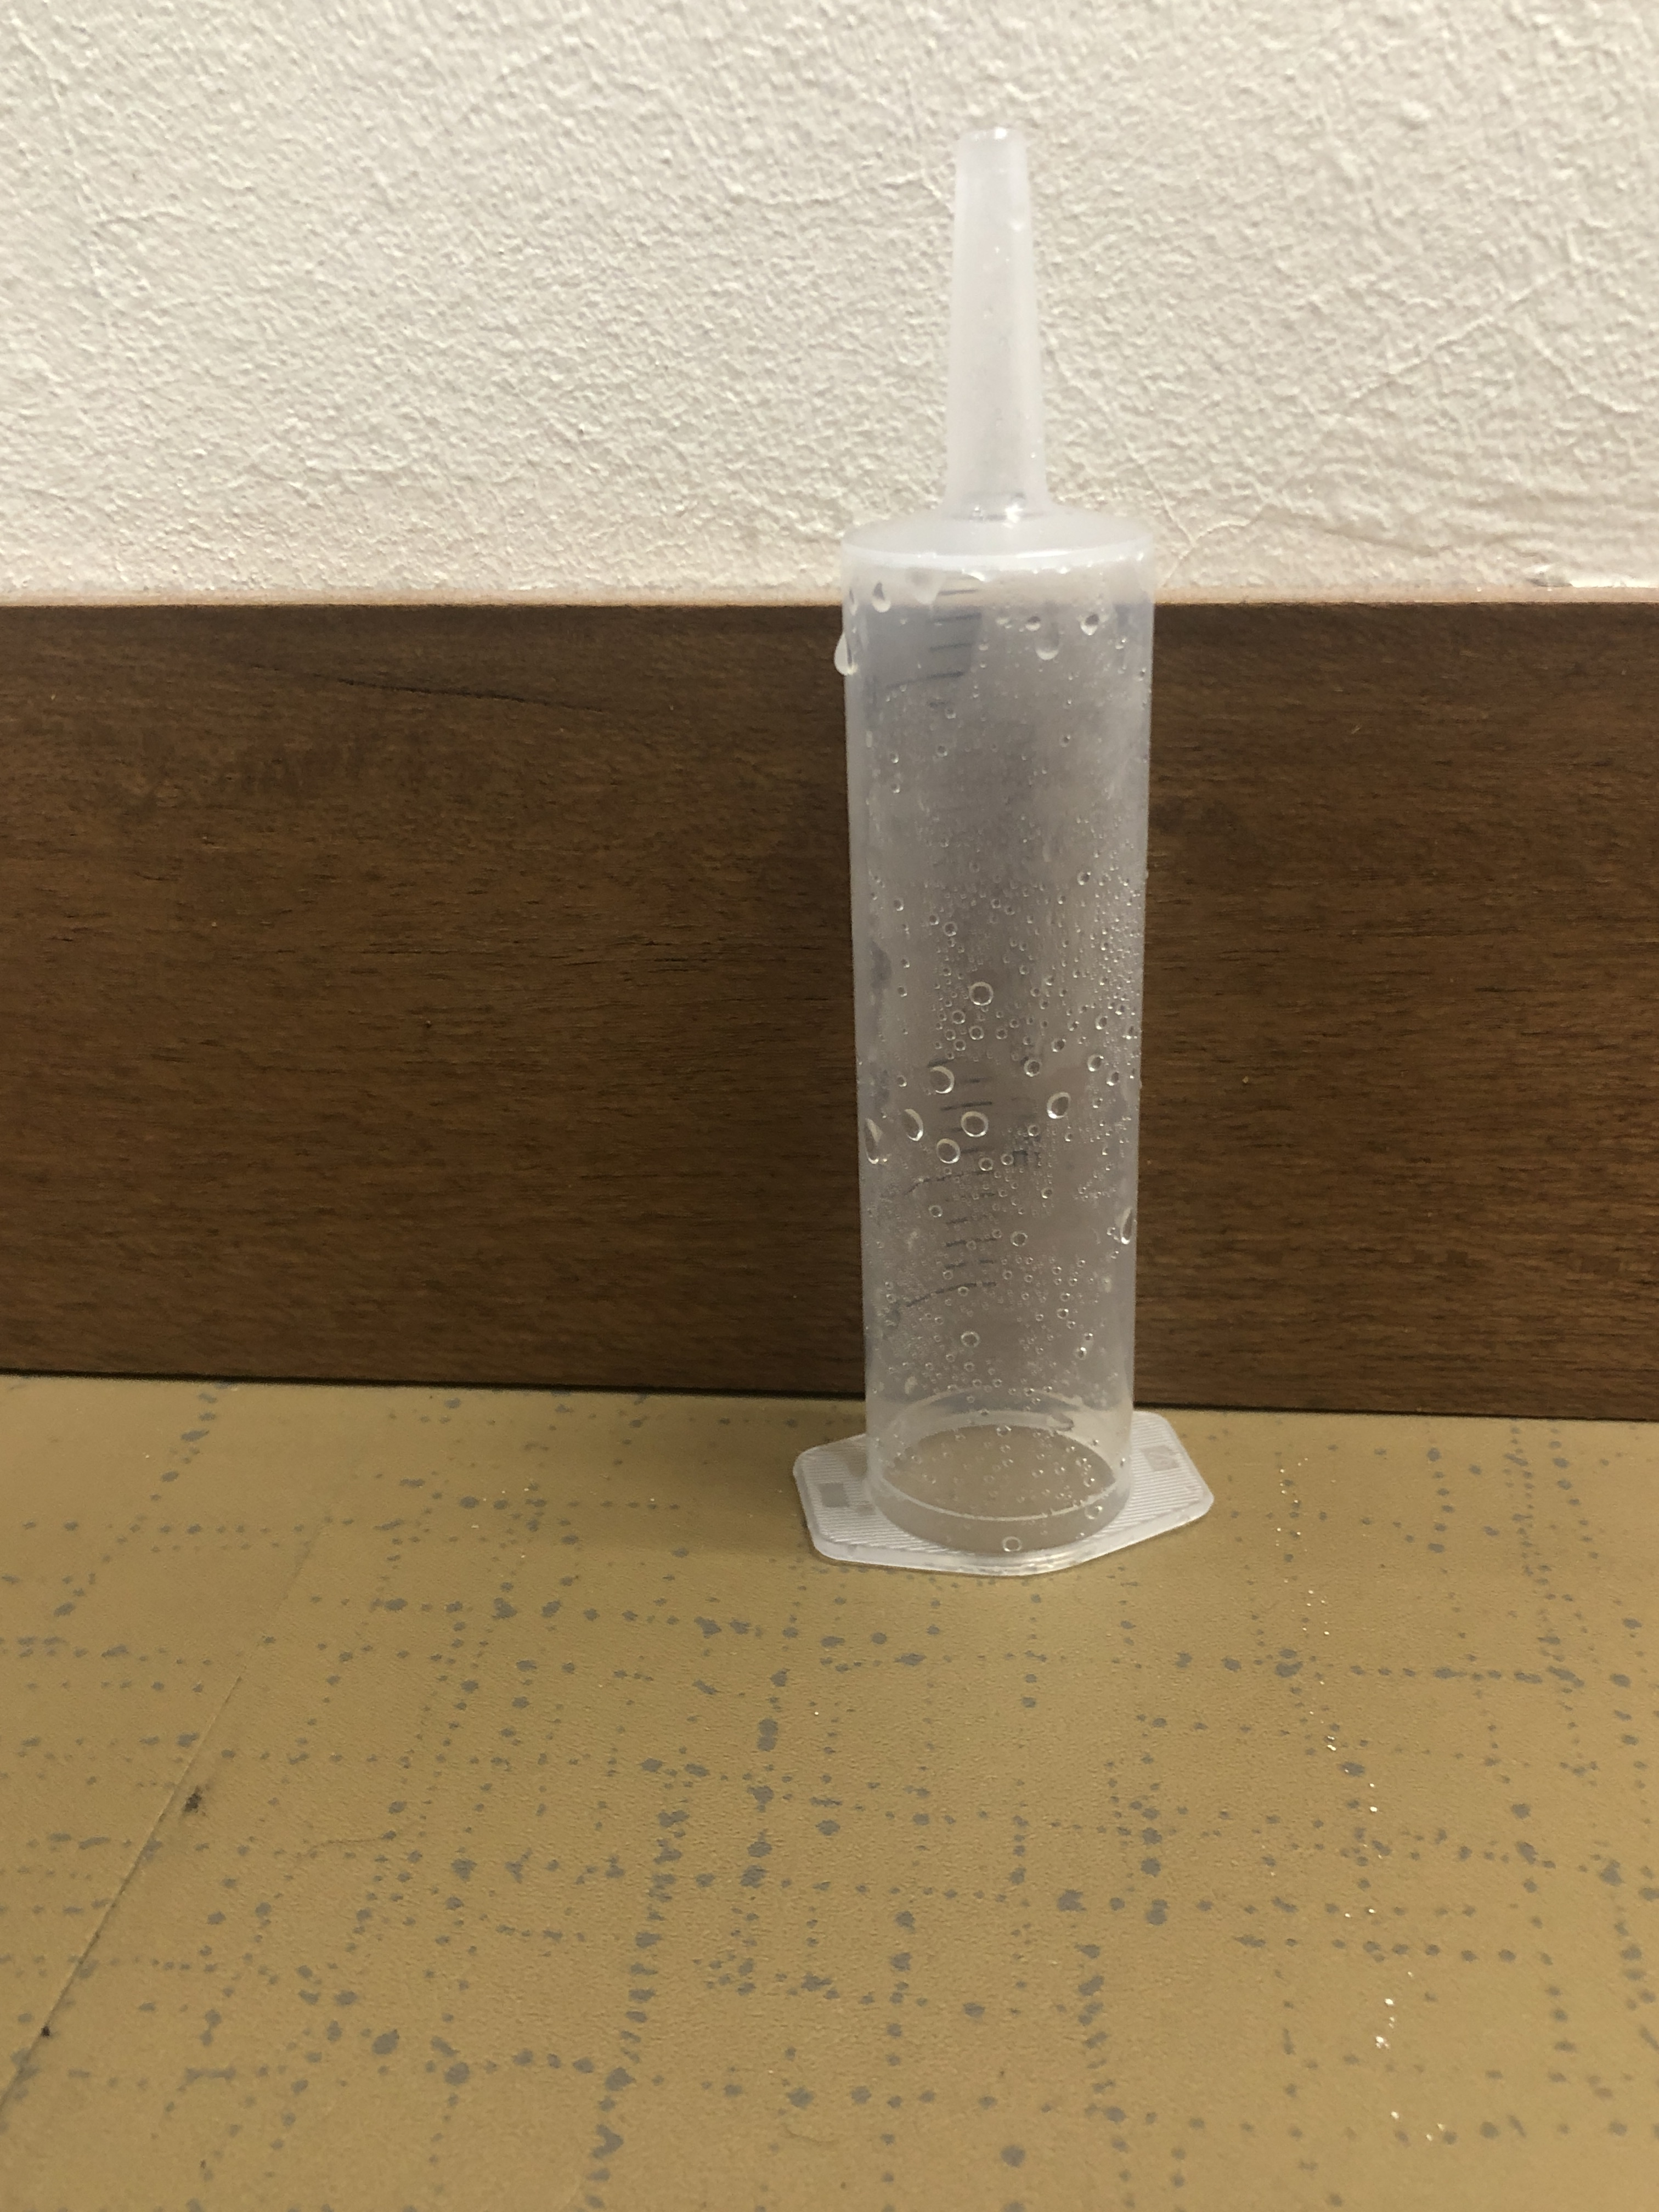syringe: (793, 120, 1223, 1583)
